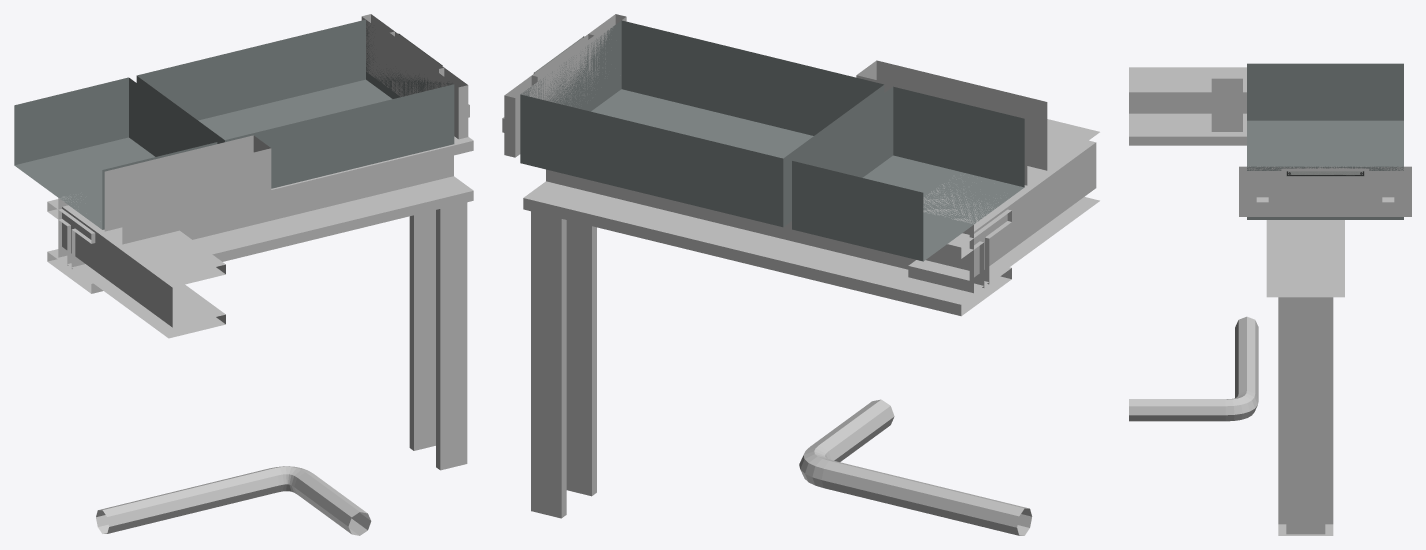
Rendered from cell_1.obj.
3 views of the same model, side by side, from view 1: azimuth 30°, elevation 25°; view 2: azimuth 150°, elevation 25°; view 3: azimuth 270°, elevation 25° (orthographic). The views are drawn at different scales.
Size of the model in its own units: 1 by 1 by 0.72.
